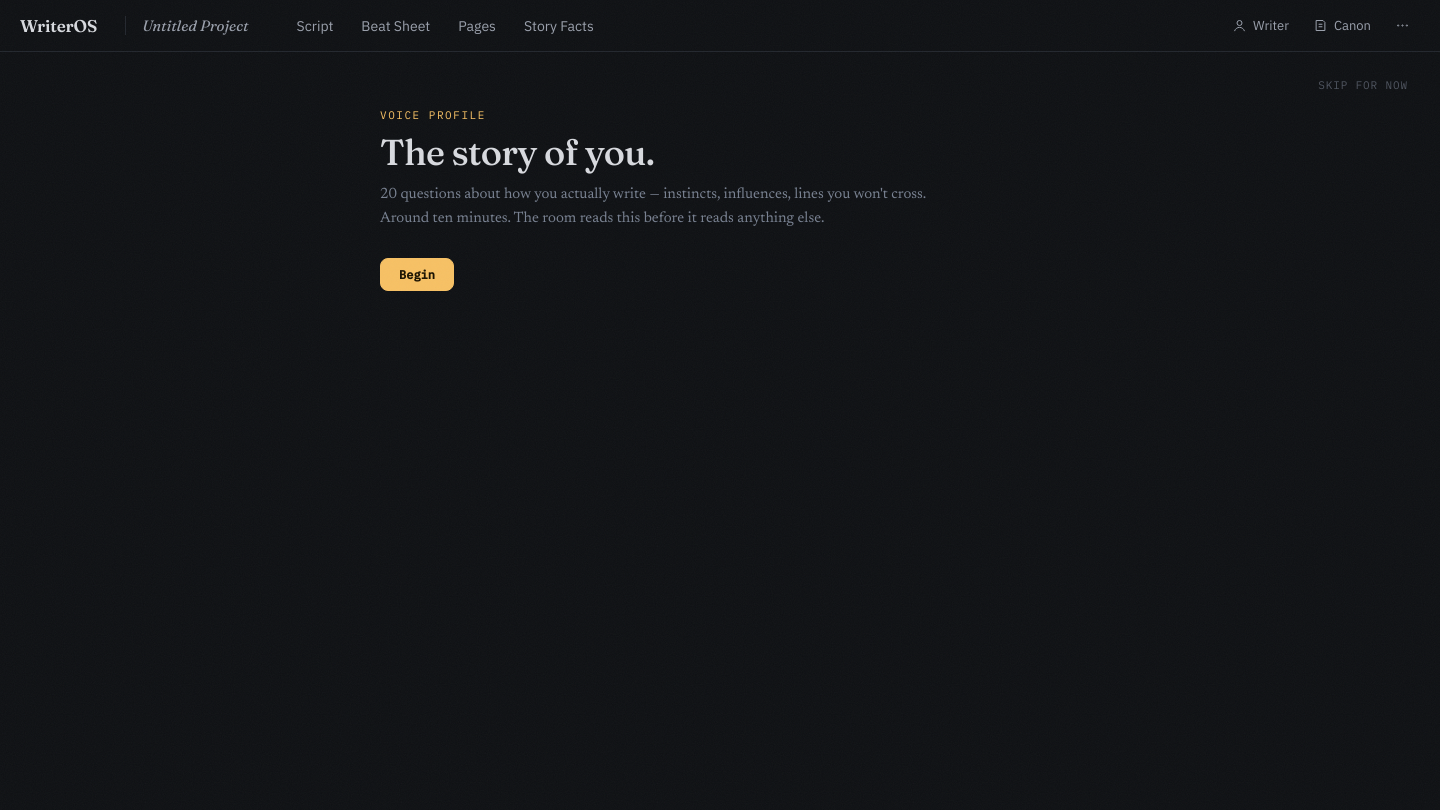
Test: Voice Profile first-run gate › skip records the state and never re-prompts on the next mount
This screenshot has width=1440, height=810.
Click the button "Skip for now". click: (1363,85)
box: top-left (1310, 72), bottom-right (1416, 98)
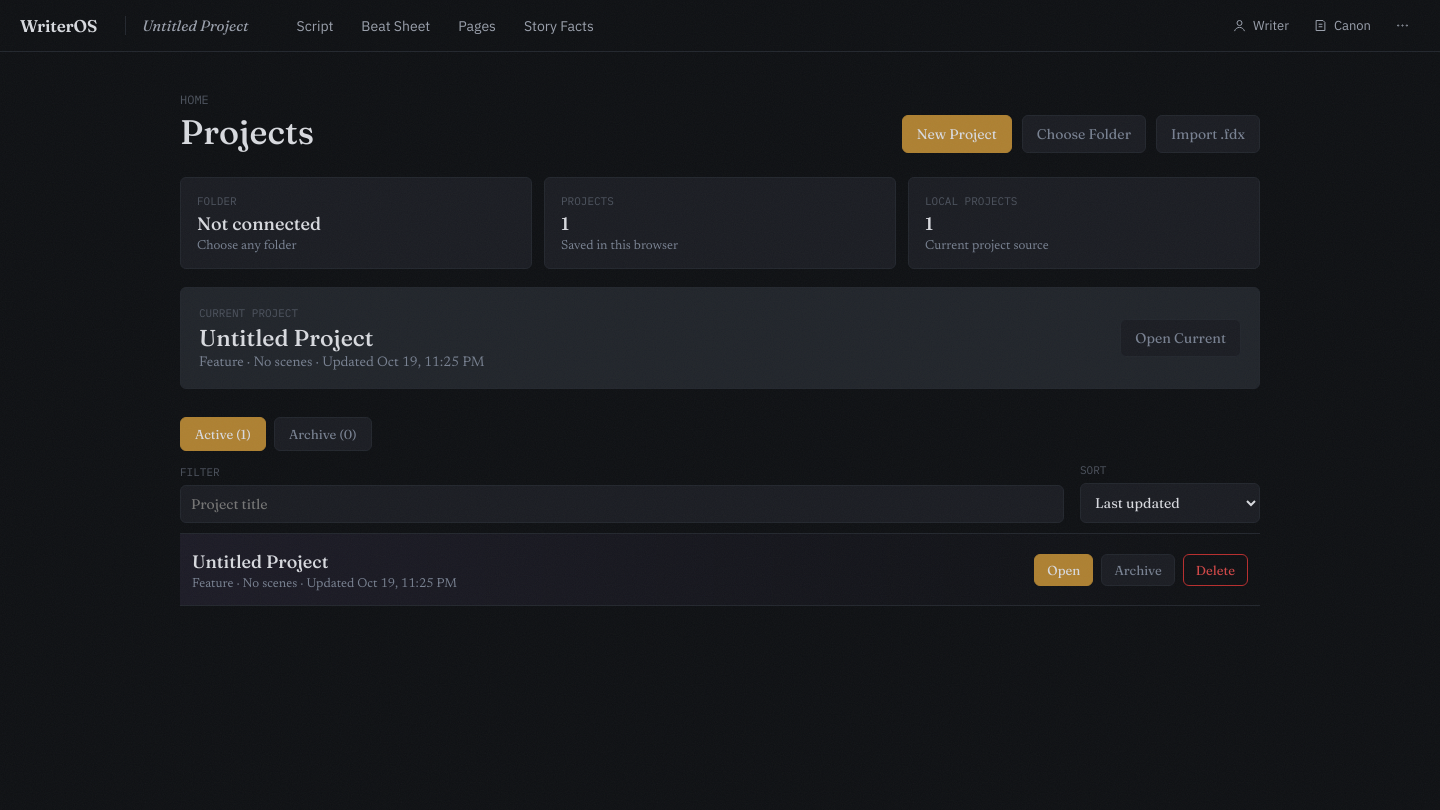
Now the heading "The story of you." is gone
